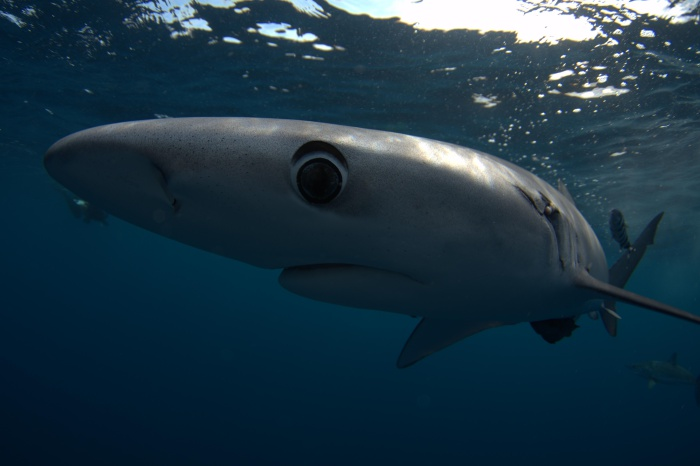Azul: (42, 78, 700, 396)
